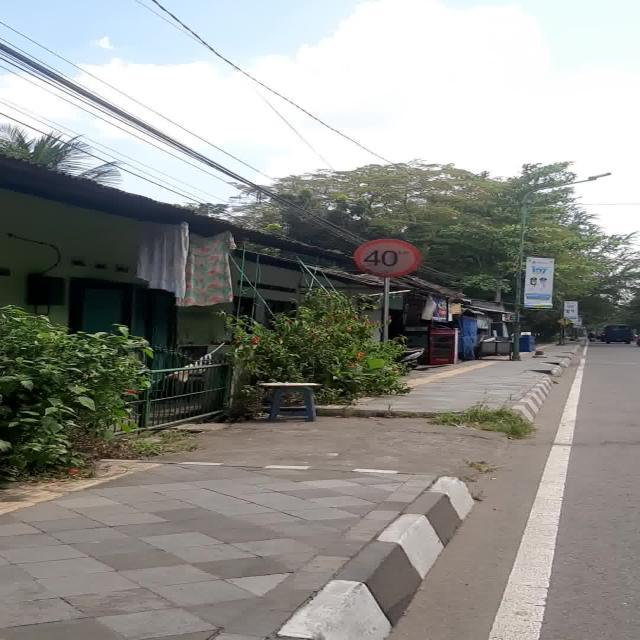Kecepatan Maks. 40 km: (353, 238, 420, 278)
